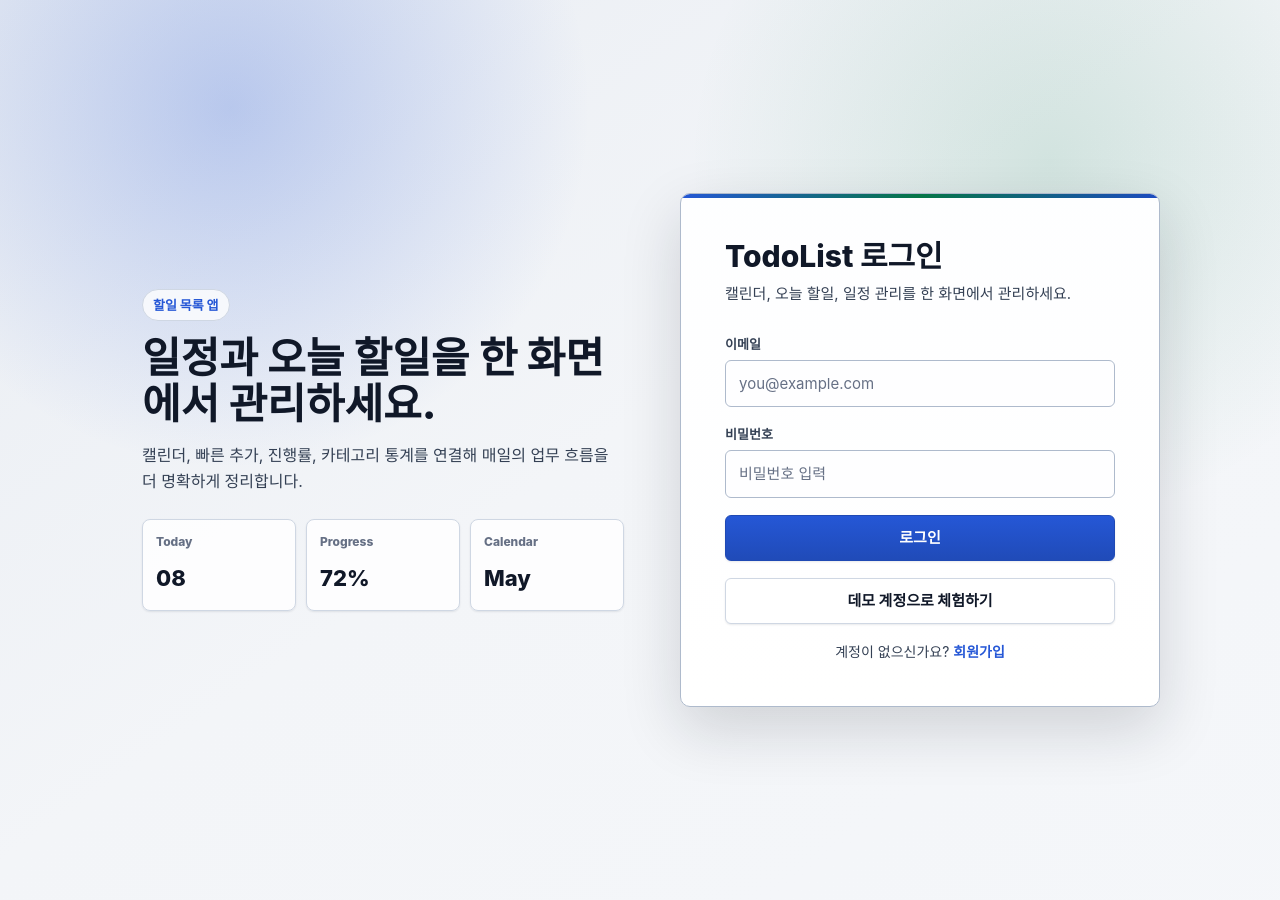
Scenario: LoginPage › 회원가입 링크 클릭 시 SignupPage로 이동한다
Click the link "회원가입" at (979, 651), box x1=953 y1=642 x2=1005 y2=660
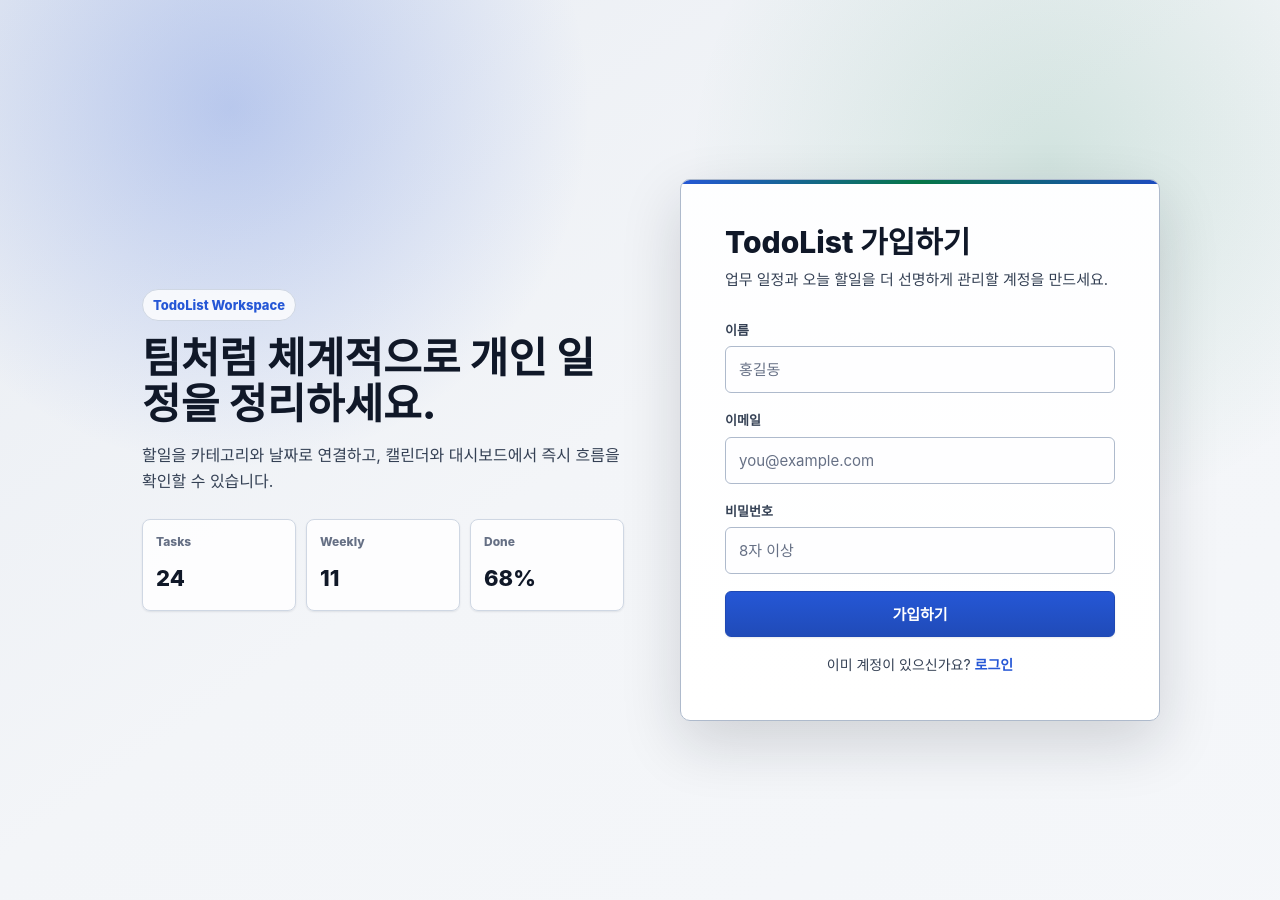
Result: the heading "TodoList 가입하기" is shown at x1=725 y1=224 x2=970 y2=260
Result: the heading "TodoList 로그인" is gone
